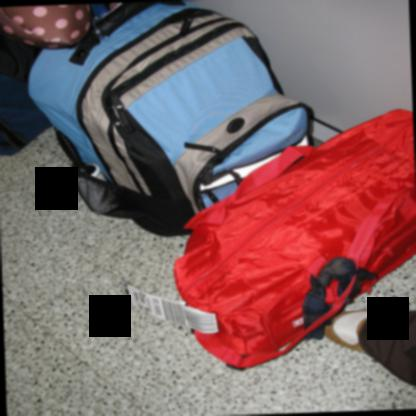backpack: (27, 3, 322, 235), (168, 103, 416, 375)
handbag: (174, 109, 416, 368)
suitcase: (171, 111, 416, 373)
